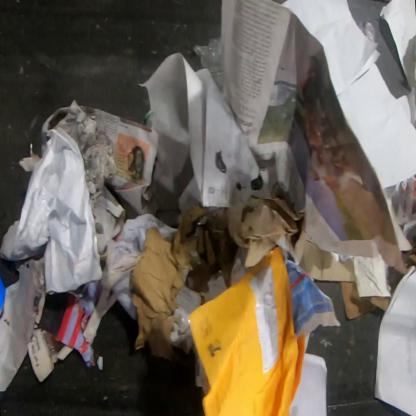cardboard: (187, 246, 307, 415), (129, 204, 238, 368), (225, 185, 356, 282), (339, 282, 391, 322)
soft_plastic: (191, 36, 225, 95)
